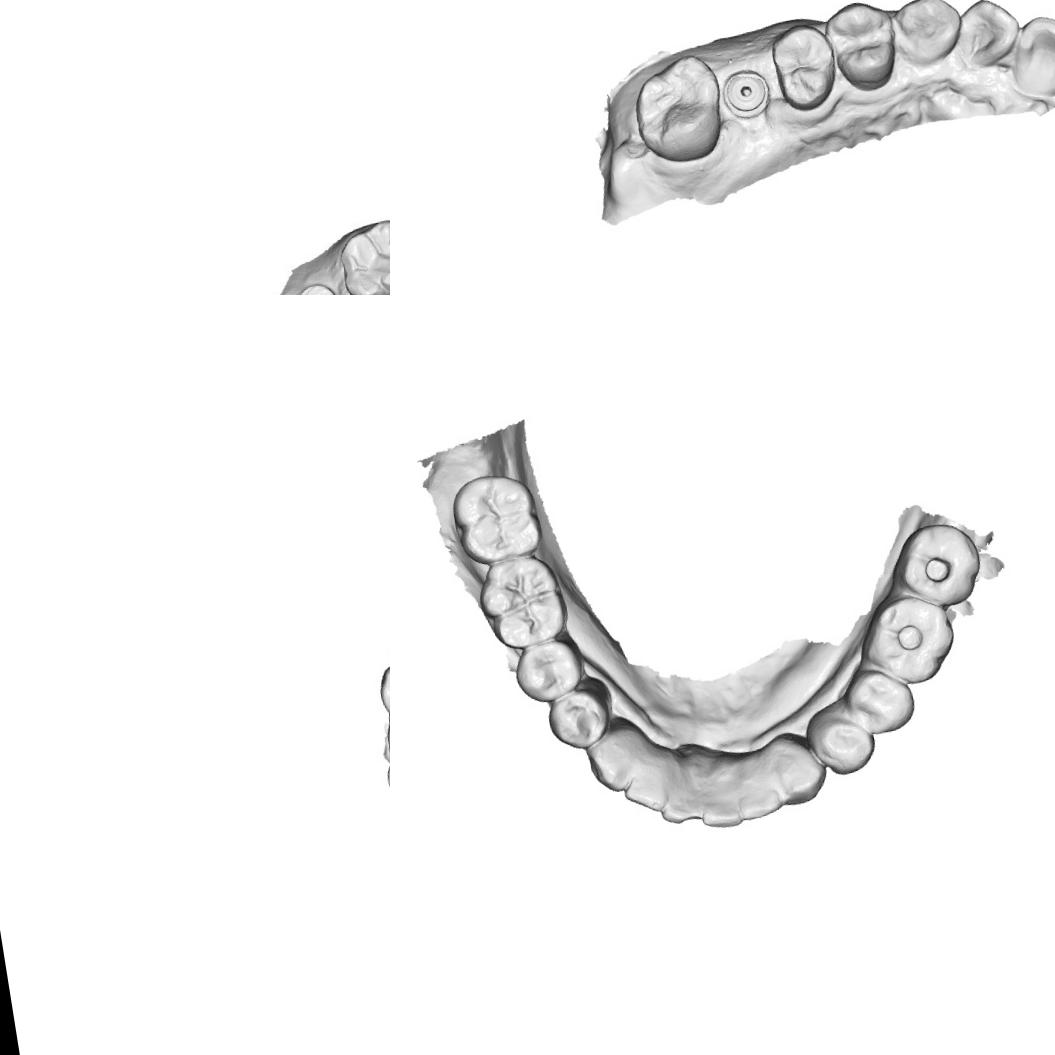canine: (891, 0, 965, 68), (580, 732, 646, 798), (774, 746, 832, 808)
implant: (720, 65, 774, 122), (291, 279, 340, 295)
incisor: (952, 0, 1025, 72), (1002, 7, 1055, 98), (733, 770, 790, 824), (619, 766, 675, 820), (695, 782, 745, 834), (654, 785, 708, 831)
molar: (628, 50, 730, 172), (854, 588, 963, 693), (470, 552, 572, 653), (446, 466, 546, 569), (888, 516, 987, 616), (336, 217, 390, 295)
premolar: (821, 0, 903, 97), (765, 20, 840, 116), (840, 662, 921, 741), (510, 634, 591, 708), (807, 710, 880, 781), (544, 682, 614, 756)
